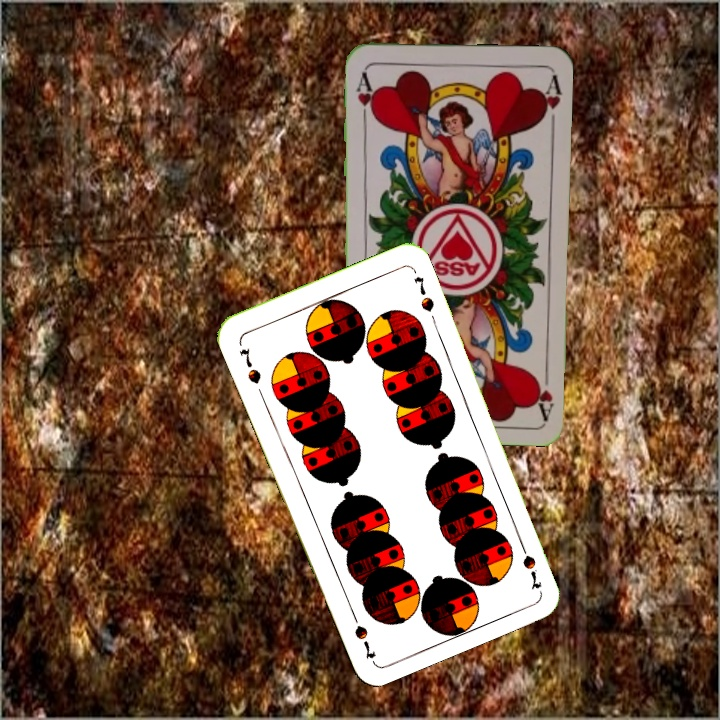HA: (530, 361, 557, 420), (352, 68, 378, 125)
S7: (514, 535, 545, 592), (235, 344, 264, 387)
